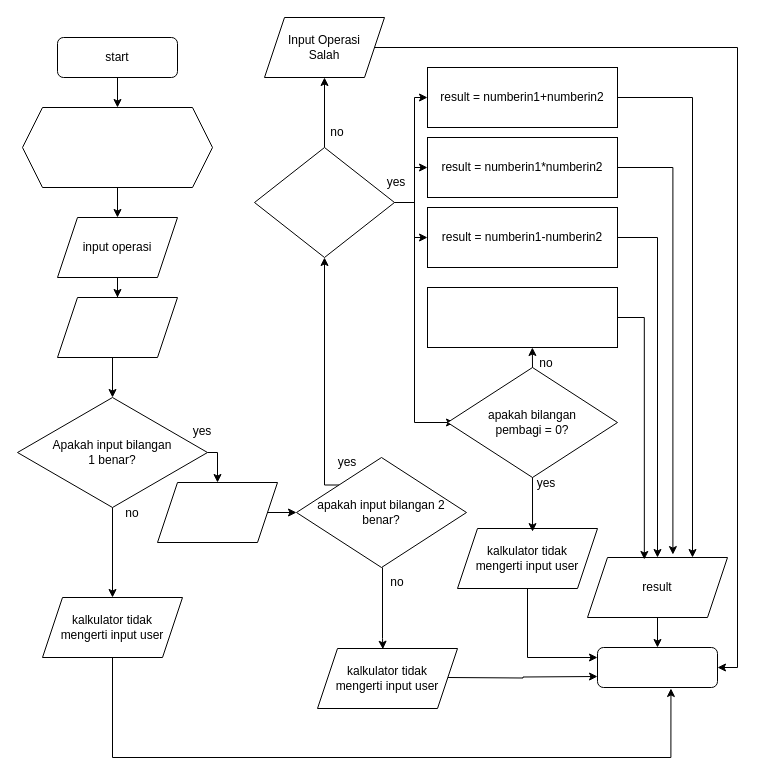
Image size: 763x783. Some labels were removed from this diagram. Here are the shapes that lost their labels. From the top down, the centre of each, then its label:
the point at 117,147: float numberin1 float numberin2 float result string operation
the point at 324,202: apakah input operasi benar?
the point at 117,327: input bilangan 1
the point at 522,317: result = numberin1/numberin2
the point at 217,512: input bilangan 2
the point at 657,667: end
